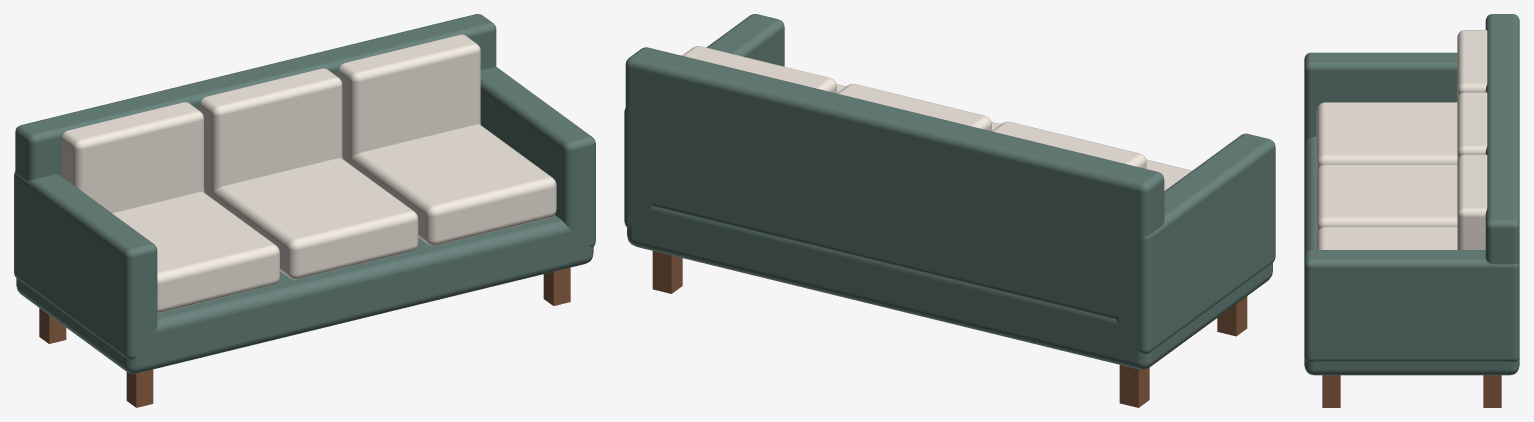
The model's file is sofa.glb.
3 renders of one model, left to right at view 1: azimuth 30°, elevation 25°; view 2: azimuth 150°, elevation 25°; view 3: azimuth 270°, elevation 25°, orthographic. The views are drawn at different scales.
Size of the model in its own units: 2.21 by 0.94 by 0.95.
